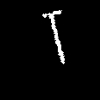double_crochet: (43, 10, 64, 63)
